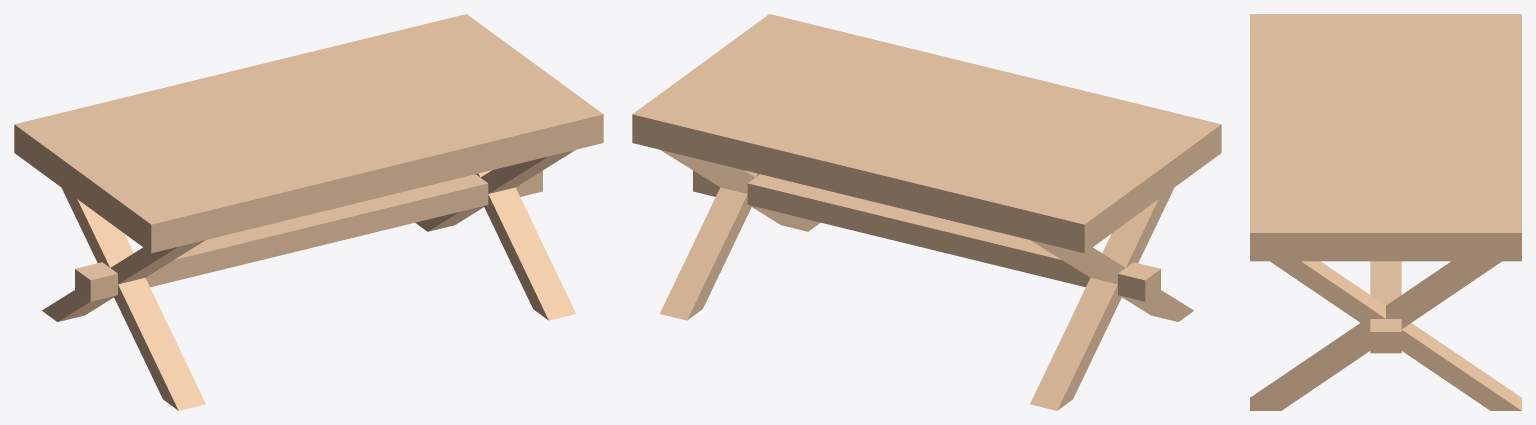
Rendered from tableCross.glb.
3 renders of one model, left to right at view 1: azimuth 30°, elevation 25°; view 2: azimuth 150°, elevation 25°; view 3: azimuth 270°, elevation 25°, orthographic.
Parts seen in each view (by area): view 1: tableCross(Clone); view 2: tableCross(Clone); view 3: tableCross(Clone).
Part boxes in pixels (bbox=[...]): tableCross(Clone): bbox=[14, 14, 603, 410]; tableCross(Clone): bbox=[632, 14, 1221, 410]; tableCross(Clone): bbox=[1250, 14, 1521, 410].
Size of the model in its own units: 0.8521 by 0.3474 by 0.4474.
